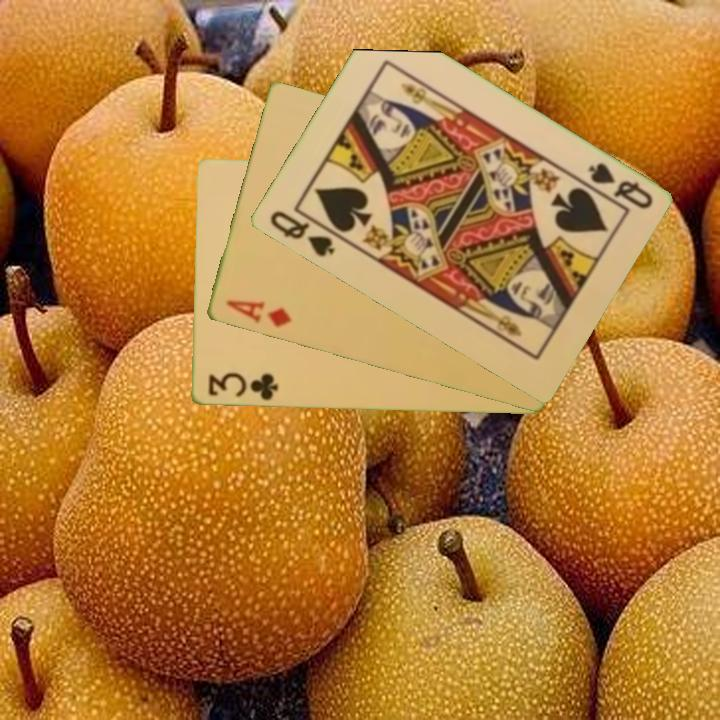3c: (204, 369, 280, 403)
Ad: (222, 296, 294, 331)
Qs: (584, 159, 656, 213), (265, 207, 338, 260)
